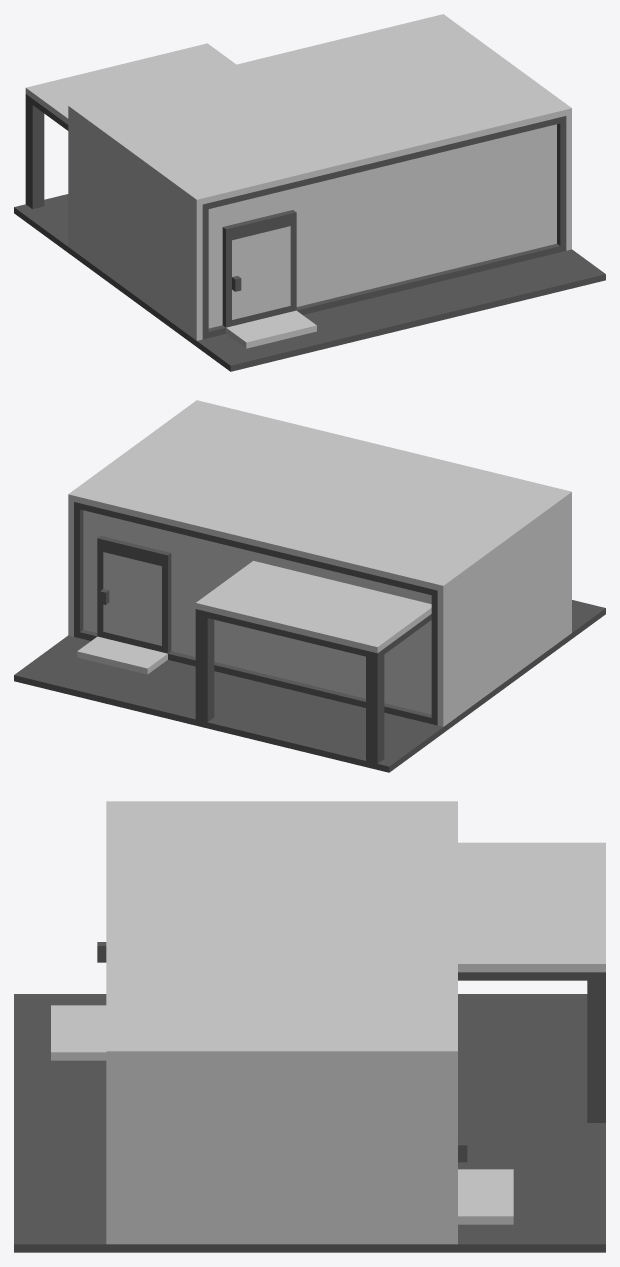
The model's file is bld_house2a.obj.
The picture shows the model from 3 angles, top to bottom: view 1: azimuth 30°, elevation 25°; view 2: azimuth 150°, elevation 25°; view 3: azimuth 270°, elevation 25°; orthographic projection. The views are drawn at different scales.
Size of the model in its own units: 64 by 24 by 64.
